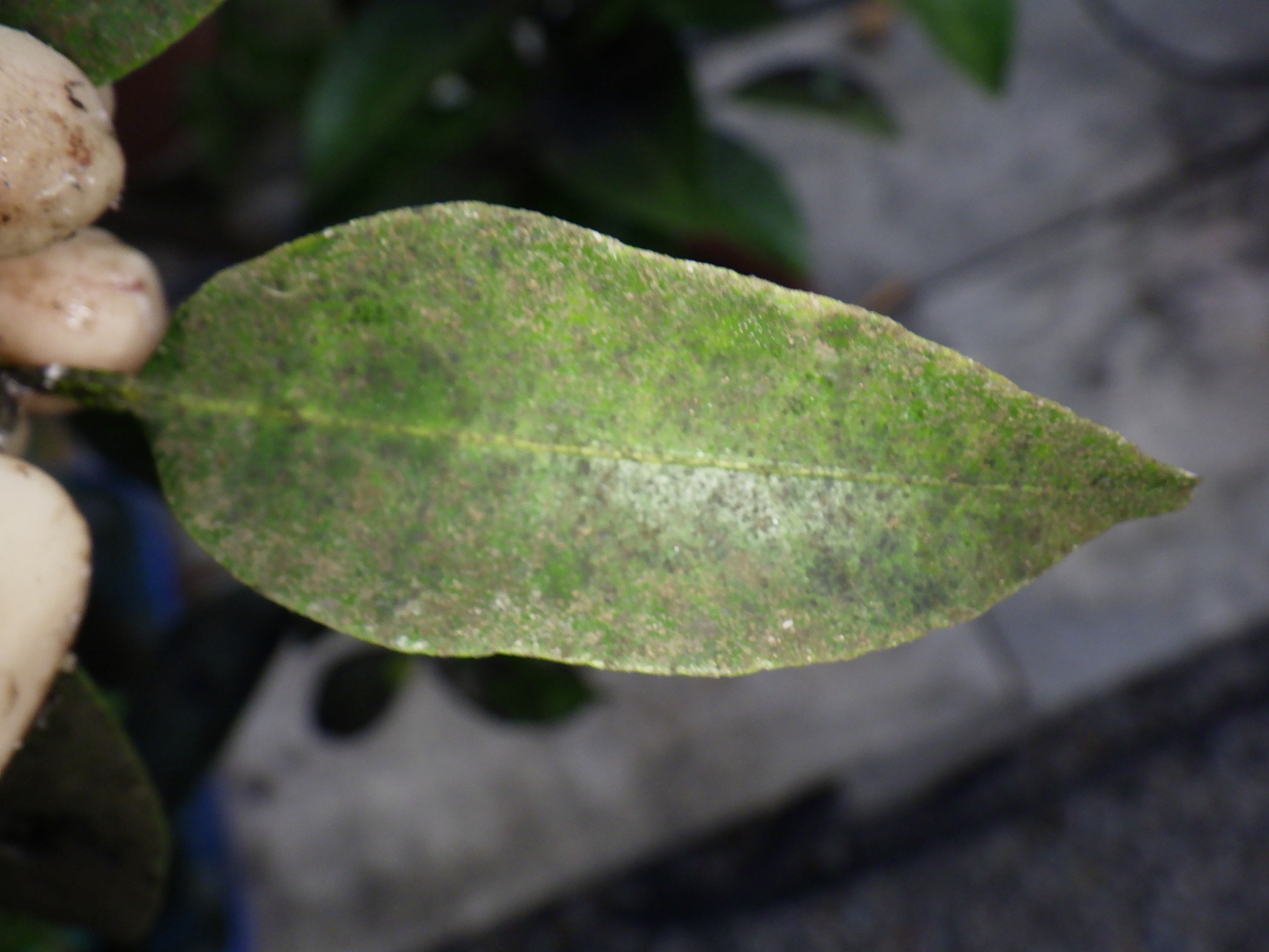Sooty_Mold: (59, 203, 1195, 674)
